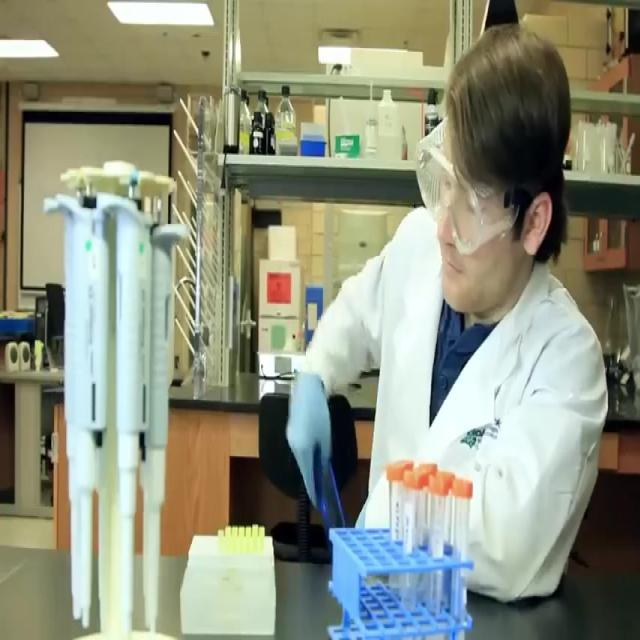googles: (415, 135, 503, 257)
labcoat: (295, 203, 609, 605)
